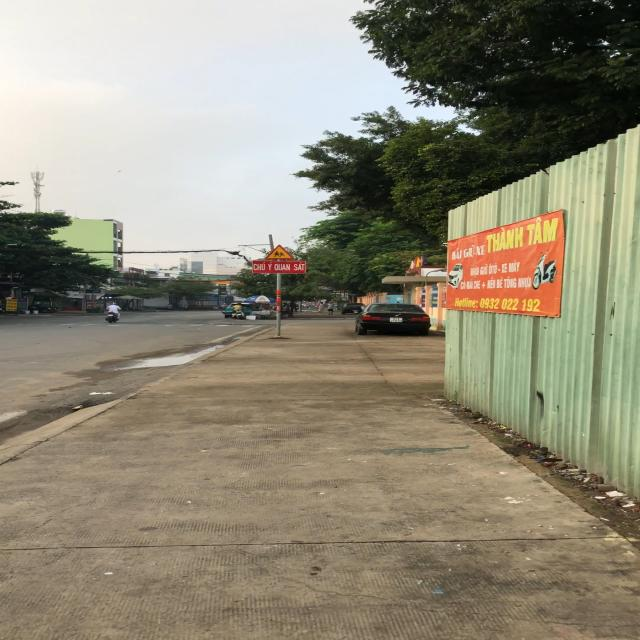Bien bao tre em: (263, 243, 297, 260)
